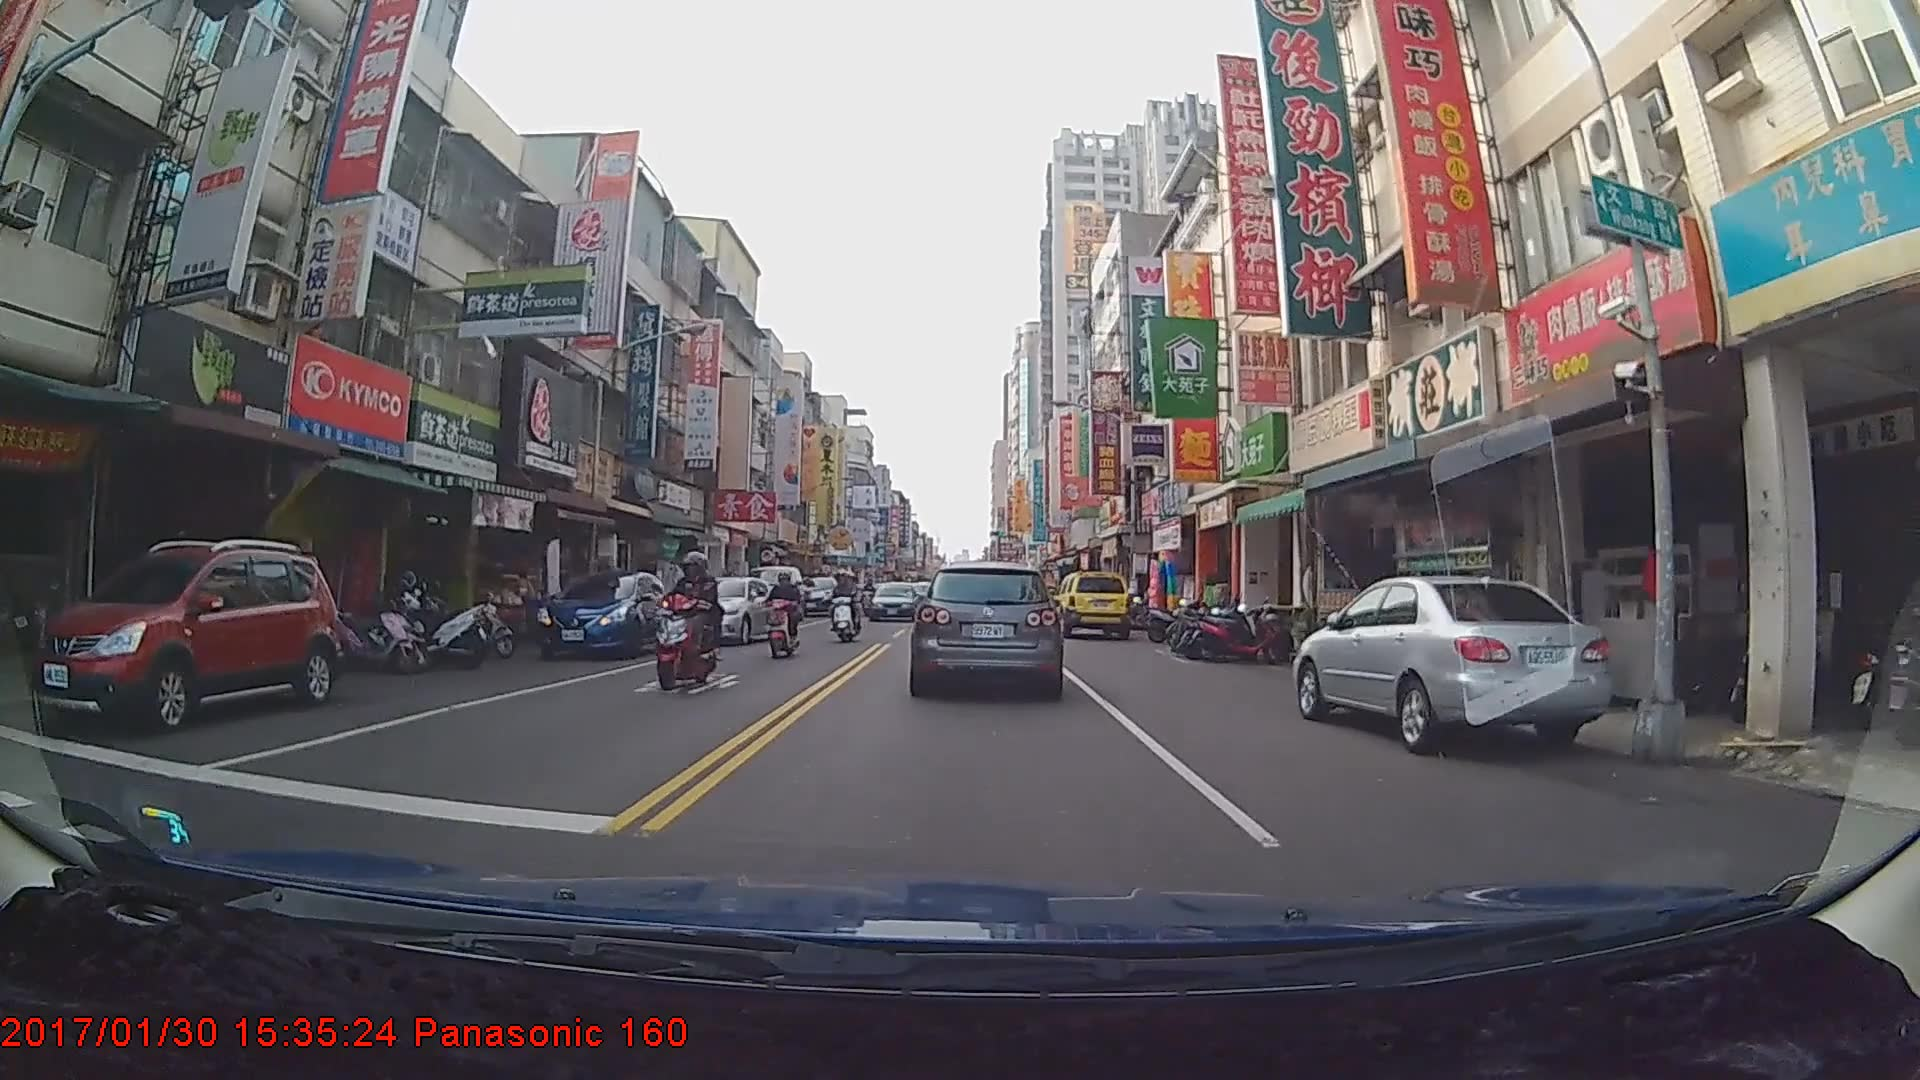rider: (651, 549, 724, 698), (762, 569, 803, 659), (824, 573, 862, 649)
vehicle: (31, 539, 339, 734), (1289, 570, 1613, 754), (913, 558, 1061, 697), (530, 569, 679, 659), (666, 574, 783, 643), (1053, 568, 1131, 638), (746, 565, 805, 622), (864, 580, 923, 621)
